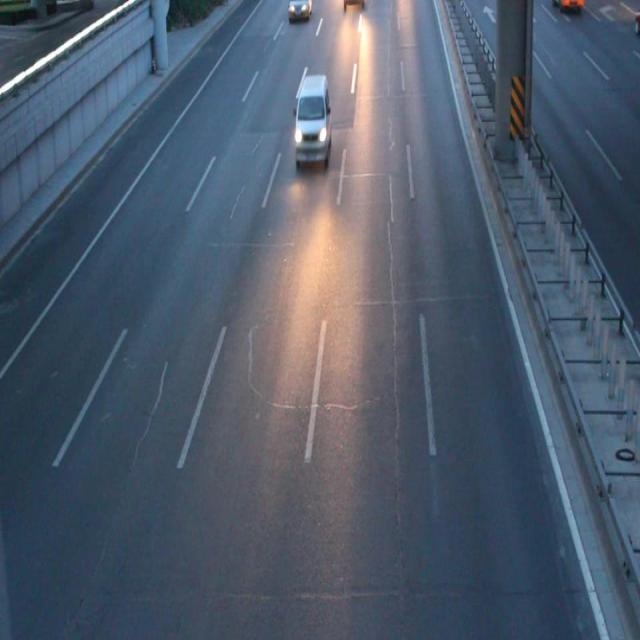car: (288, 1, 311, 18)
truck: (296, 73, 332, 159), (550, 1, 581, 13)
